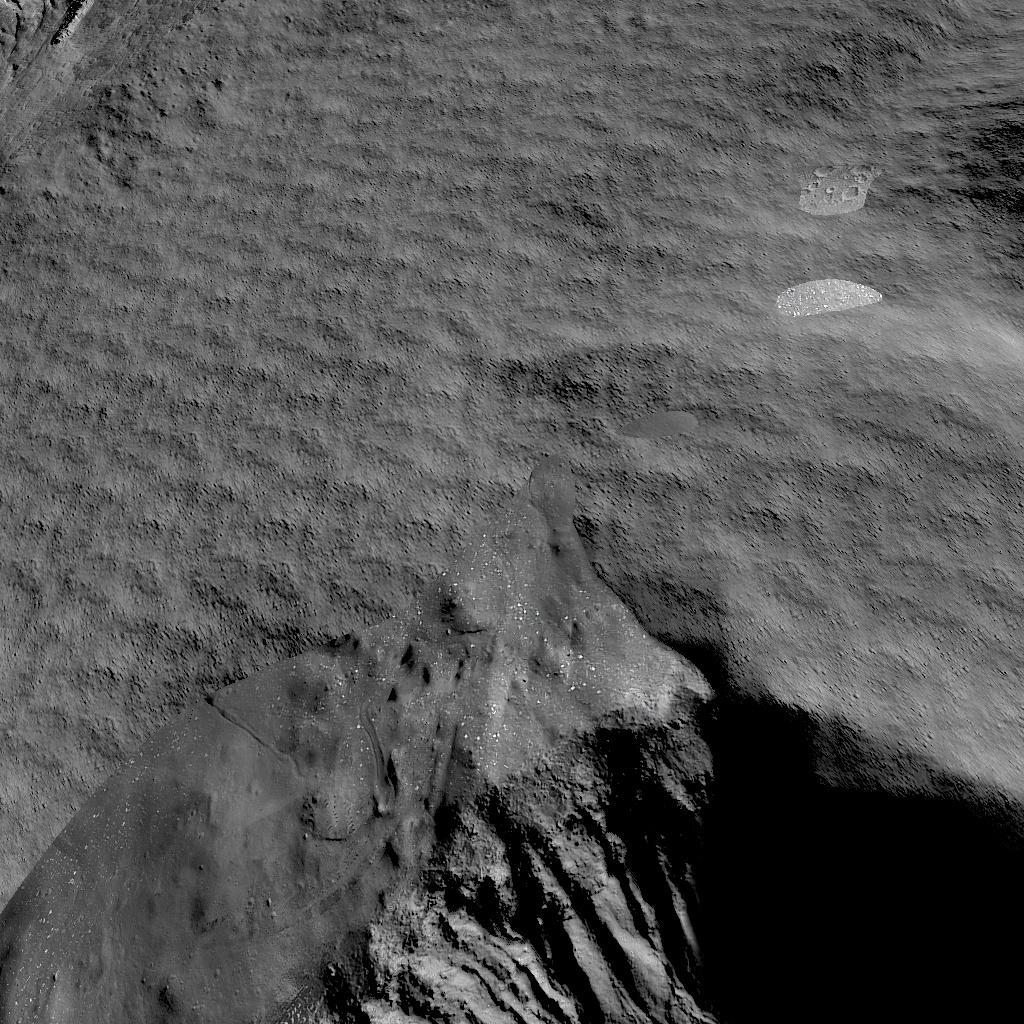Crater: (0, 562, 1024, 1024)
Plan surface: (0, 0, 1024, 550)
